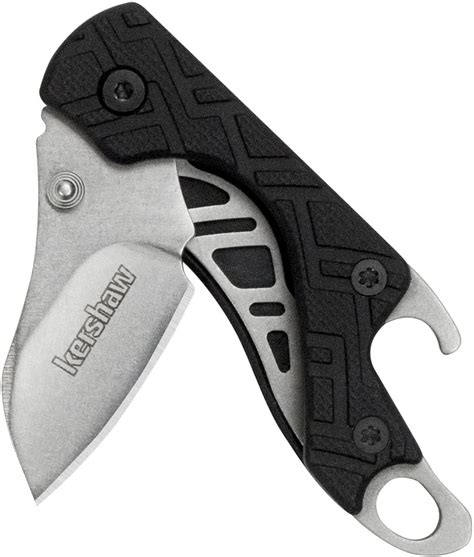knife: (4, 0, 474, 557)
